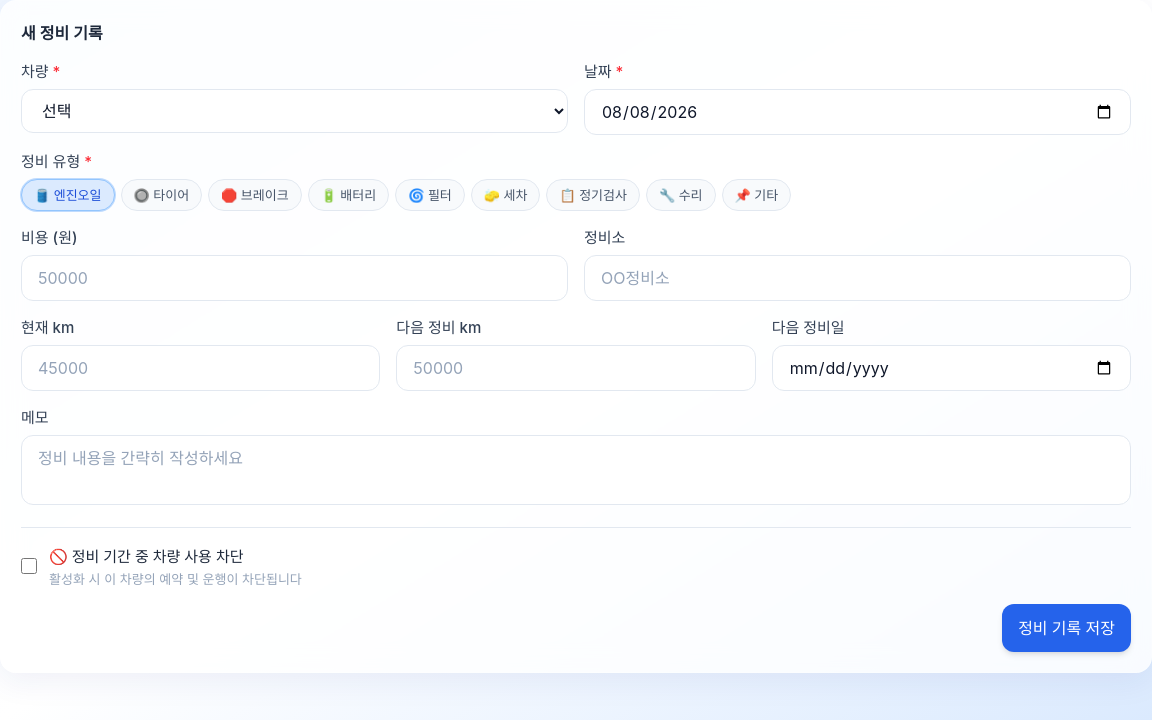
Test: MaintenanceForm — 음수 입력 차단 › 현재 km 칸은 마이너스를 넣어도 부호가 남지 않는다
Step 1. Type "-13" into the number field with placeholder "45000" → (201, 368), box [21, 345, 380, 391]
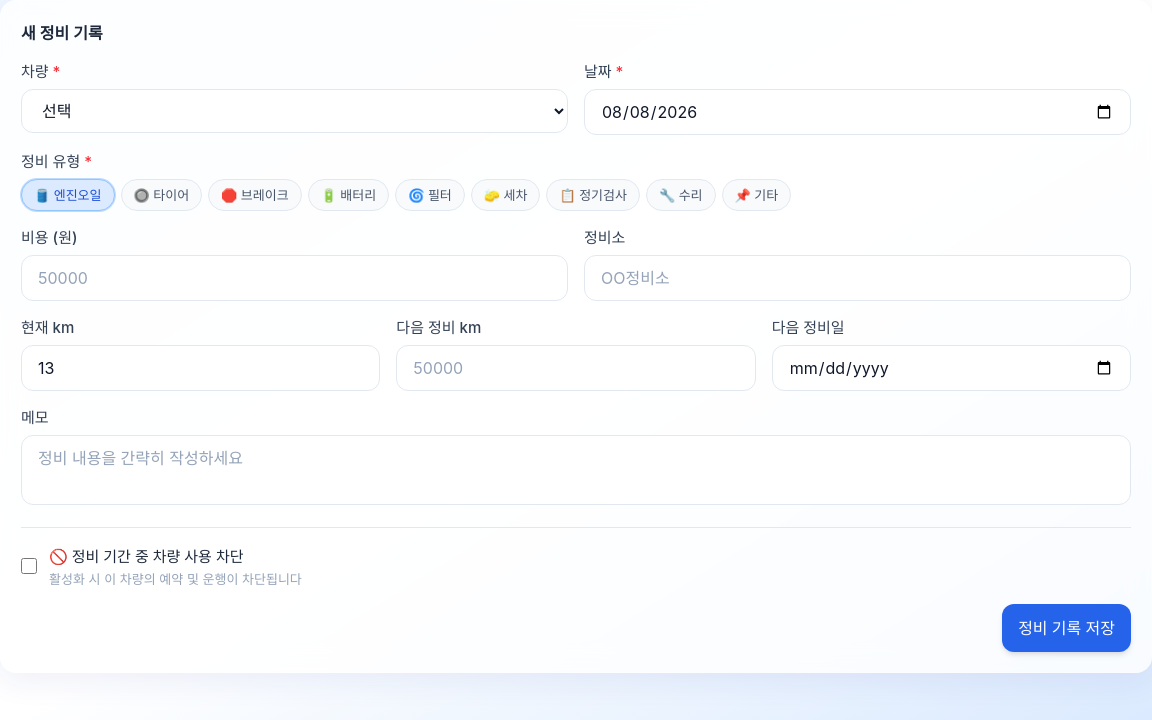
Result: the 2nd number field holds "13" at [21, 345, 380, 391]
